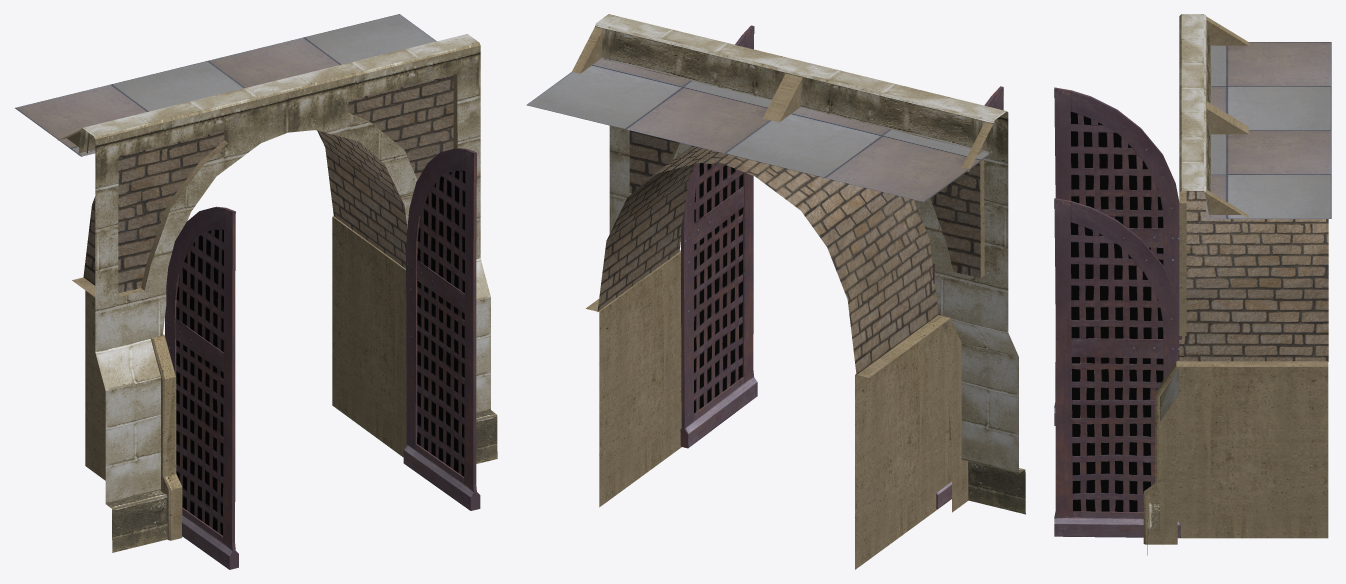
The model's file is Castle_GateNew.gltf.
3 renders of one model, left to right at view 1: azimuth 30°, elevation 25°; view 2: azimuth 150°, elevation 25°; view 3: azimuth 270°, elevation 25°, orthographic. The views are drawn at different scales.
Visible parts, largest first — view 1: Castle_GateNew; view 2: Castle_GateNew; view 3: Castle_GateNew.
Boxes of the visible parts, left/top/right/bottom form: Castle_GateNew: left=15, top=14, right=497, bottom=569; Castle_GateNew: left=526, top=14, right=1025, bottom=569; Castle_GateNew: left=1054, top=14, right=1331, bottom=555.
Bounding box in the file's own units: 2.6 × 2.6 × 1.72.
Materials: 5 (5 with a texture image).
